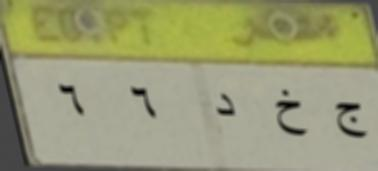6: (125, 80, 167, 122), (56, 77, 88, 123)
daal: (205, 89, 246, 126)
jeem: (326, 97, 370, 146)
khaa: (270, 85, 312, 146)
